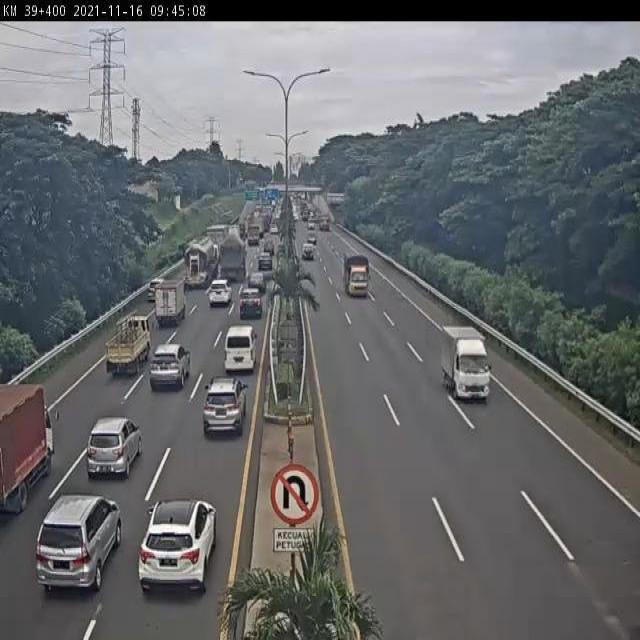car: (35, 498, 122, 594), (138, 501, 218, 591), (87, 417, 141, 479), (203, 376, 245, 436), (149, 342, 189, 390), (223, 324, 256, 371), (238, 291, 264, 320), (210, 278, 231, 306), (246, 270, 268, 294), (147, 277, 164, 300)
mid truck: (217, 238, 247, 282)
small truck: (0, 385, 55, 516), (441, 324, 490, 404), (104, 315, 154, 377), (154, 278, 188, 322)
truck-m-: (344, 255, 370, 301)
truck-xl-: (180, 239, 214, 289)
